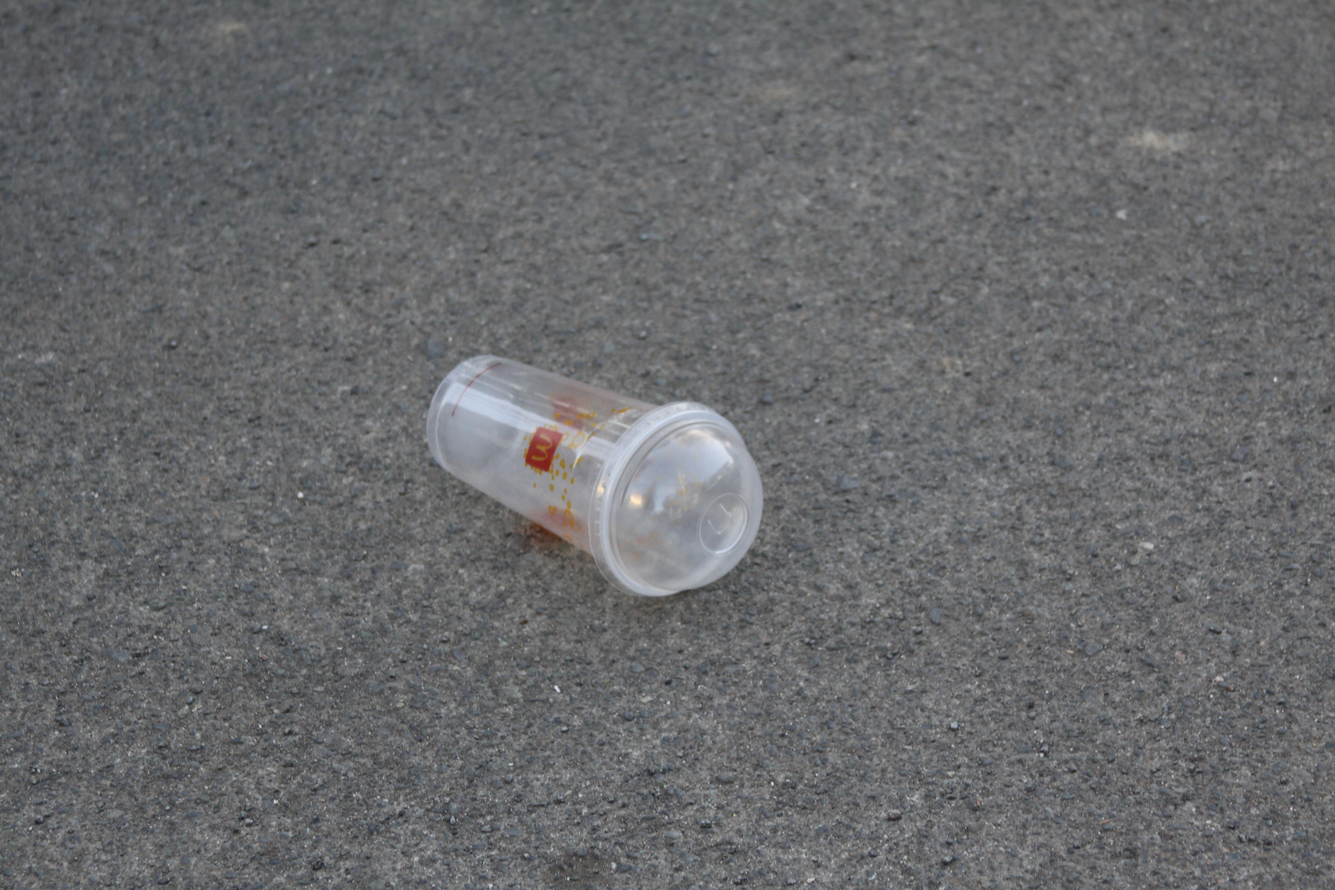Plastic: (425, 353, 765, 598)
